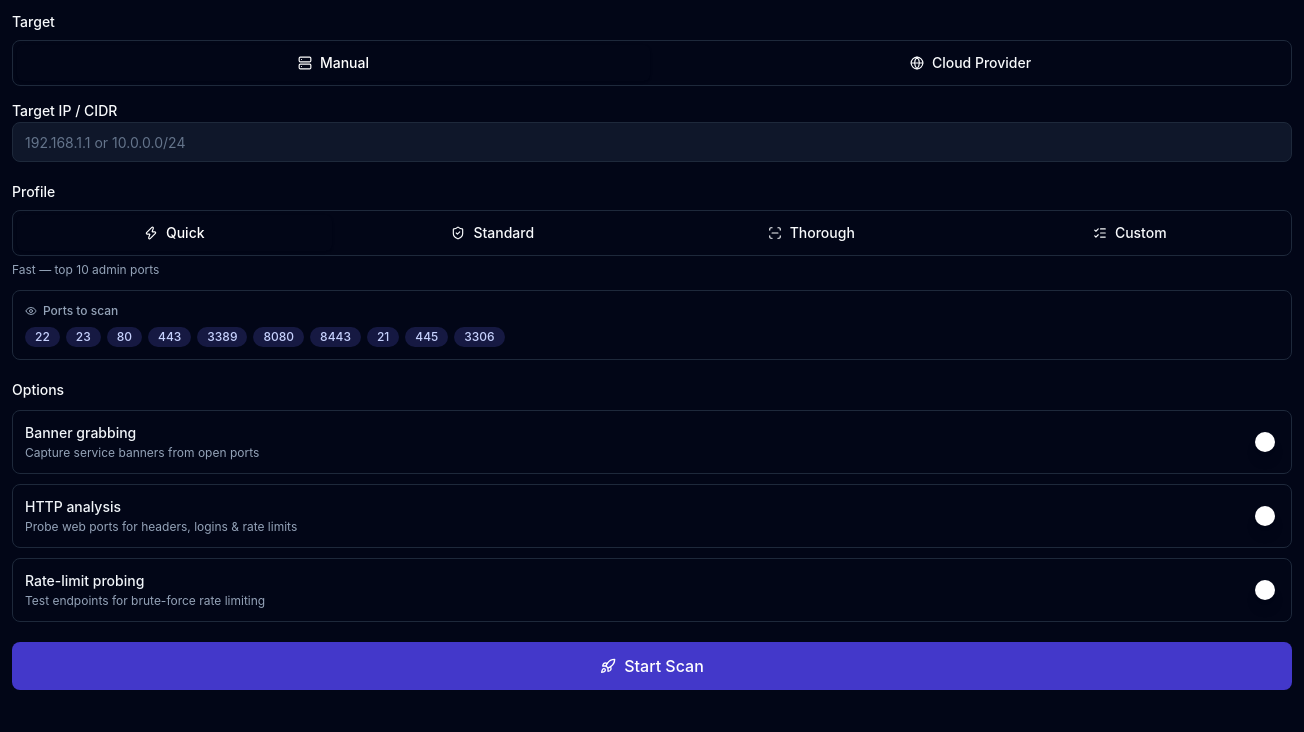
Test case: ScanForm validation › shows an IP/CIDR error when submitting with an empty manual target
Click the button "Start Scan".
click(652, 666)  # box [12,642,1292,690]
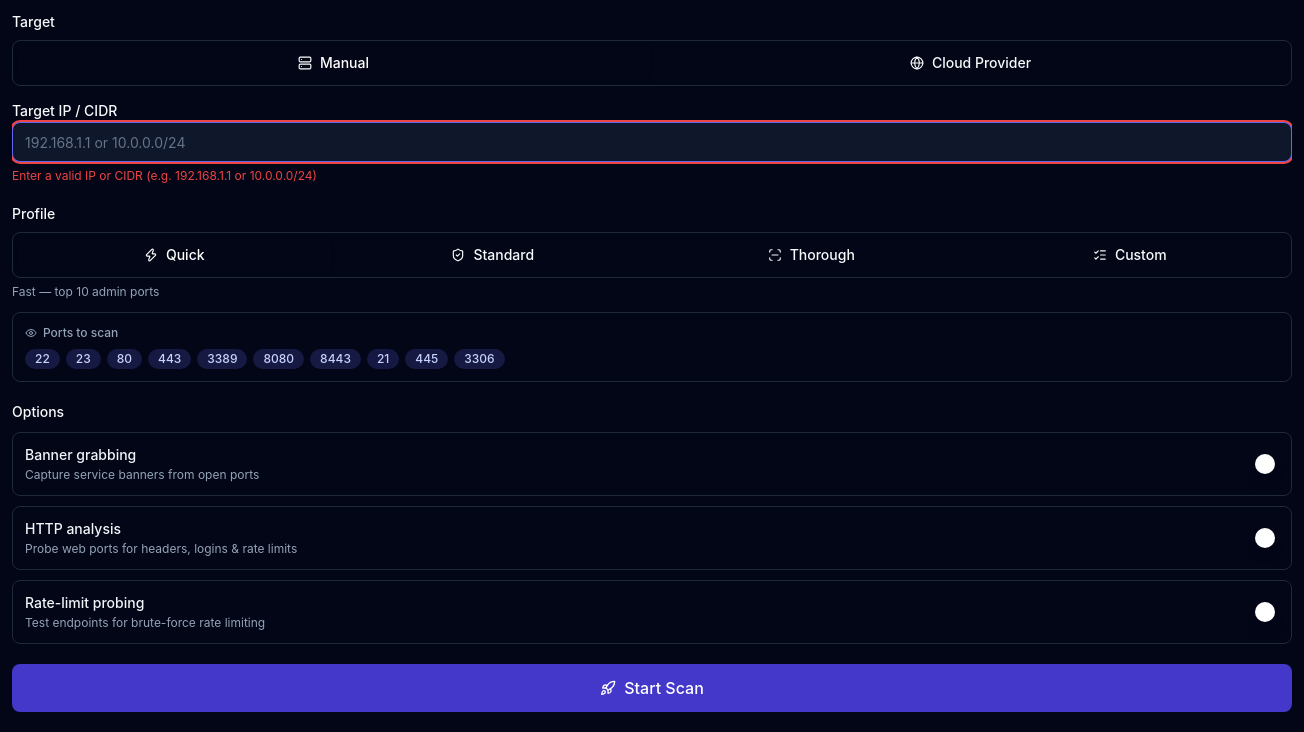
Now the text "Enter a valid IP or CIDR (e.g. 192.168.1.1 or 10.0.0.0/24)" is shown, box [12,168,317,183]
